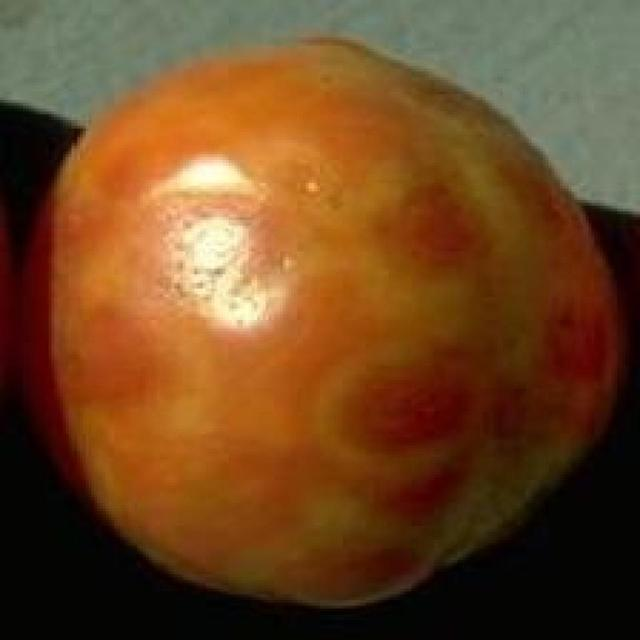Spotted wilt Virus Fruit: (20, 21, 415, 407)
